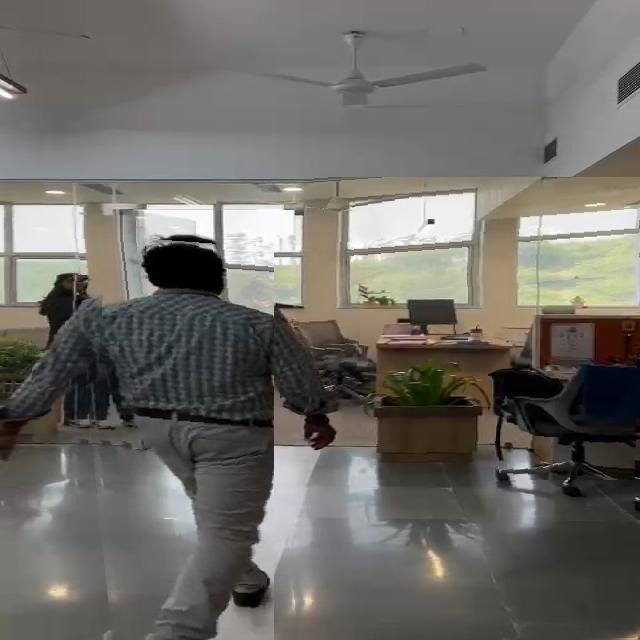floor: (283, 480, 640, 640)
furniture: (507, 337, 637, 504), (360, 376, 500, 484), (280, 318, 362, 398), (401, 293, 468, 347)
moving_object: (70, 233, 274, 640), (32, 275, 104, 390)
wall: (307, 177, 640, 299)
